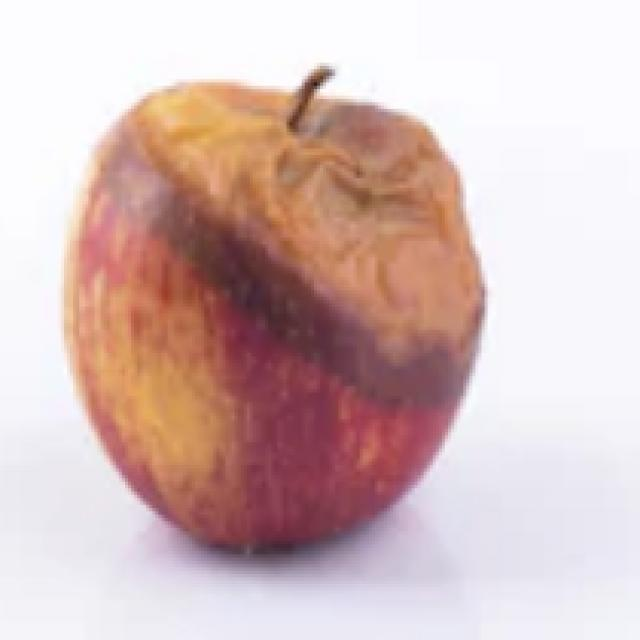Rotten: (104, 79, 474, 568)
